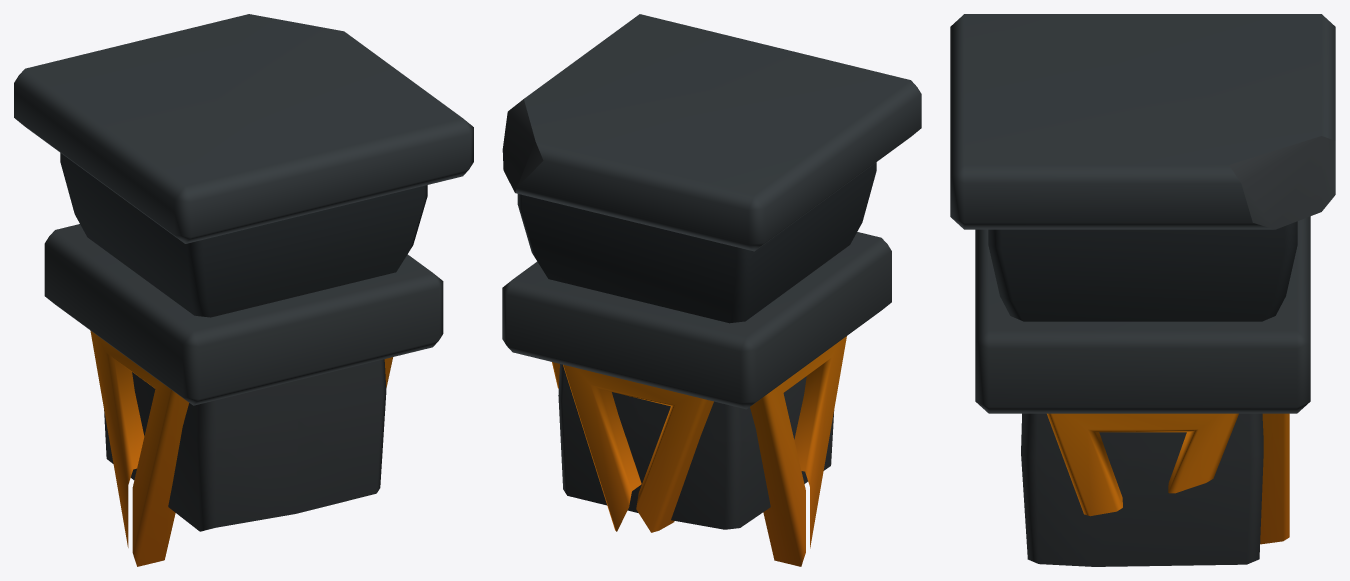
The model's file is hl_column_stump.glb.
The picture shows the model from 3 angles, left to right: view 1: azimuth 30°, elevation 25°; view 2: azimuth 150°, elevation 25°; view 3: azimuth 270°, elevation 25°; orthographic projection. The views are drawn at different scales.
Visible parts, largest first — view 1: hl_column_stump; view 2: hl_column_stump; view 3: hl_column_stump.
Part boxes in pixels (<box>): hl_column_stump: <box>14,14,473,566</box>; hl_column_stump: <box>502,14,921,566</box>; hl_column_stump: <box>950,14,1335,566</box>.
Size of the model in its own units: 1.92 by 2.73 by 1.92.
